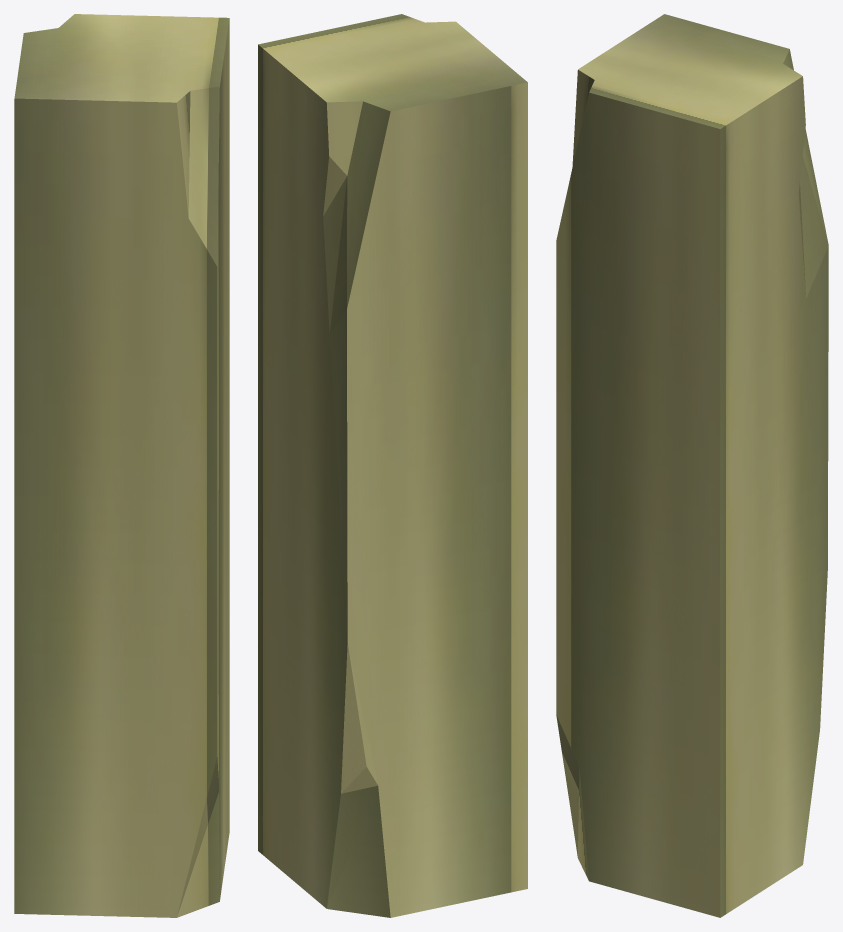
Rendered from TheOctagon_Floor_2_Col_1.gltf.
3 views of the same model, side by side, from view 1: azimuth 30°, elevation 25°; view 2: azimuth 150°, elevation 25°; view 3: azimuth 270°, elevation 25° (orthographic). The views are drawn at different scales.
Visible parts, largest first — view 1: TheOctagon_Floor_2_Col_1; view 2: TheOctagon_Floor_2_Col_1; view 3: TheOctagon_Floor_2_Col_1.
Part boxes in pixels (x1=…): TheOctagon_Floor_2_Col_1: x1=14, y1=14, x2=229, y2=917; TheOctagon_Floor_2_Col_1: x1=258, y1=14, x2=527, y2=917; TheOctagon_Floor_2_Col_1: x1=556, y1=14, x2=828, y2=917.
Bounding box in the file's own units: 2.59 × 8.29 × 2.6.
1 material, 1 textured.
